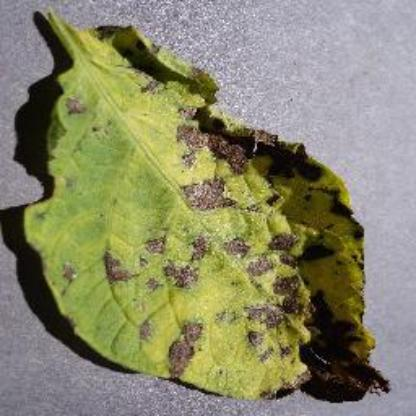Early-Blight: (20, 3, 396, 405)
